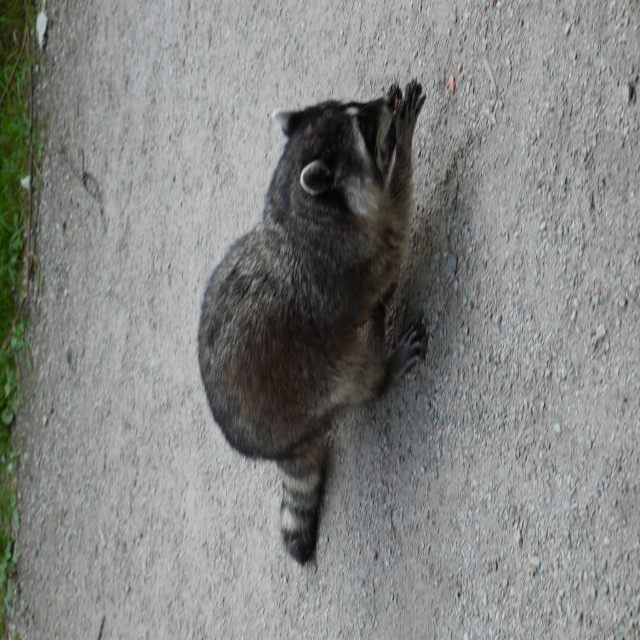Raccoon: (197, 80, 423, 566)
